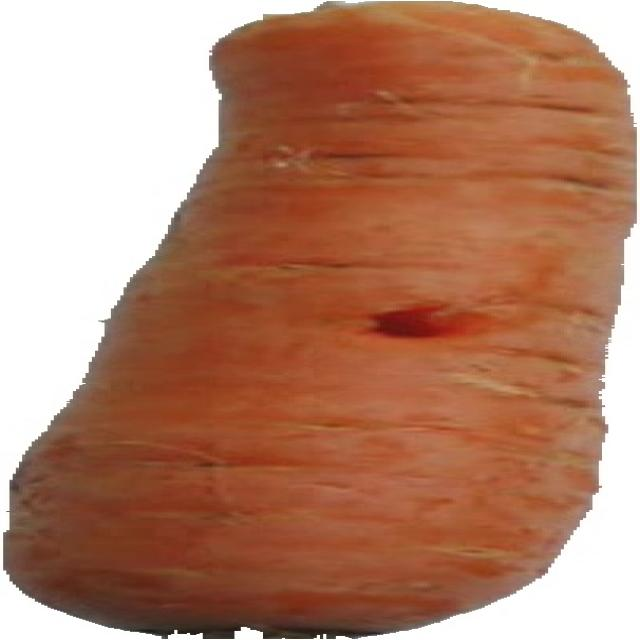carrot: (8, 2, 633, 636)
